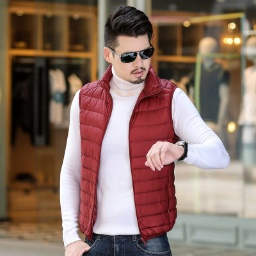face: (99, 5, 157, 85)
